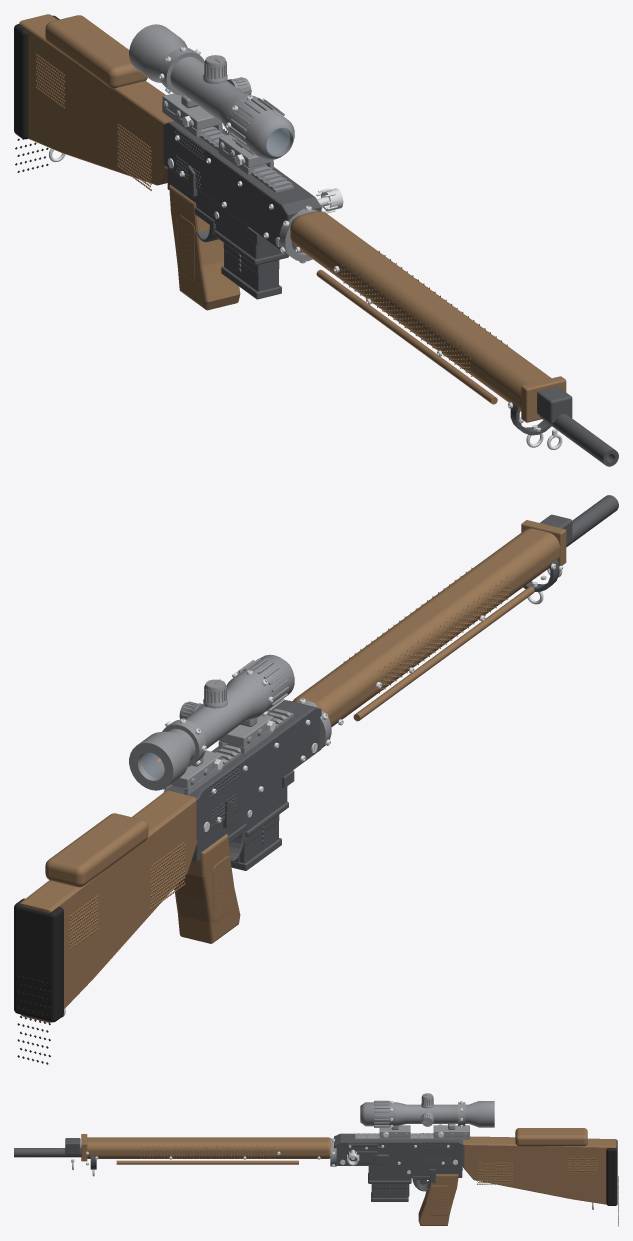
Rendered from mosin.glb.
The picture shows the model from 3 angles, top to bottom: view 1: azimuth 30°, elevation 25°; view 2: azimuth 150°, elevation 25°; view 3: azimuth 270°, elevation 25°; orthographic projection. The views are drawn at different scales.
Parts seen in each view (by area): view 1: bolt-sniper-classic-scoped, magazine/gunmetal; view 2: bolt-sniper-classic-scoped, magazine/gunmetal; view 3: bolt-sniper-classic-scoped, magazine/gunmetal.
Boxes of the visible parts, bbox=[...] form: bolt-sniper-classic-scoped: bbox=[14, 14, 618, 466]; magazine/gunmetal: bbox=[221, 243, 281, 299]; bolt-sniper-classic-scoped: bbox=[14, 495, 618, 1064]; magazine/gunmetal: bbox=[231, 815, 281, 870]; bolt-sniper-classic-scoped: bbox=[14, 1093, 618, 1226]; magazine/gunmetal: bbox=[371, 1184, 409, 1201].
Size of the model in its own units: 0.089 by 0.2733 by 1.17.
